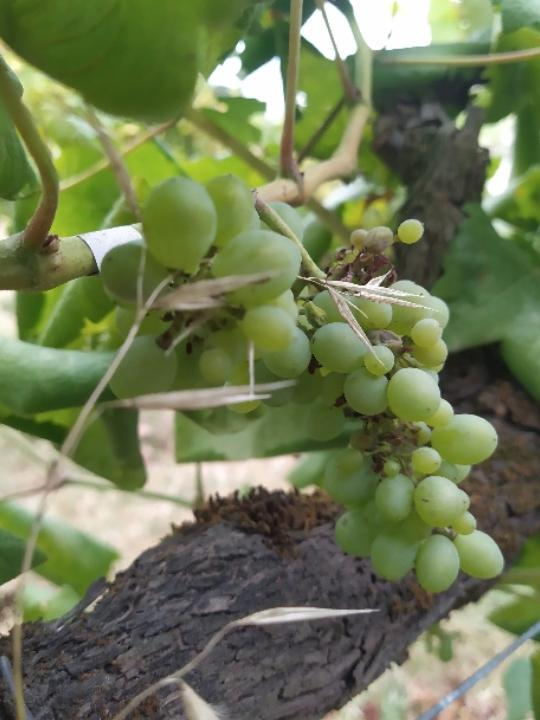grape: (97, 170, 510, 595)
